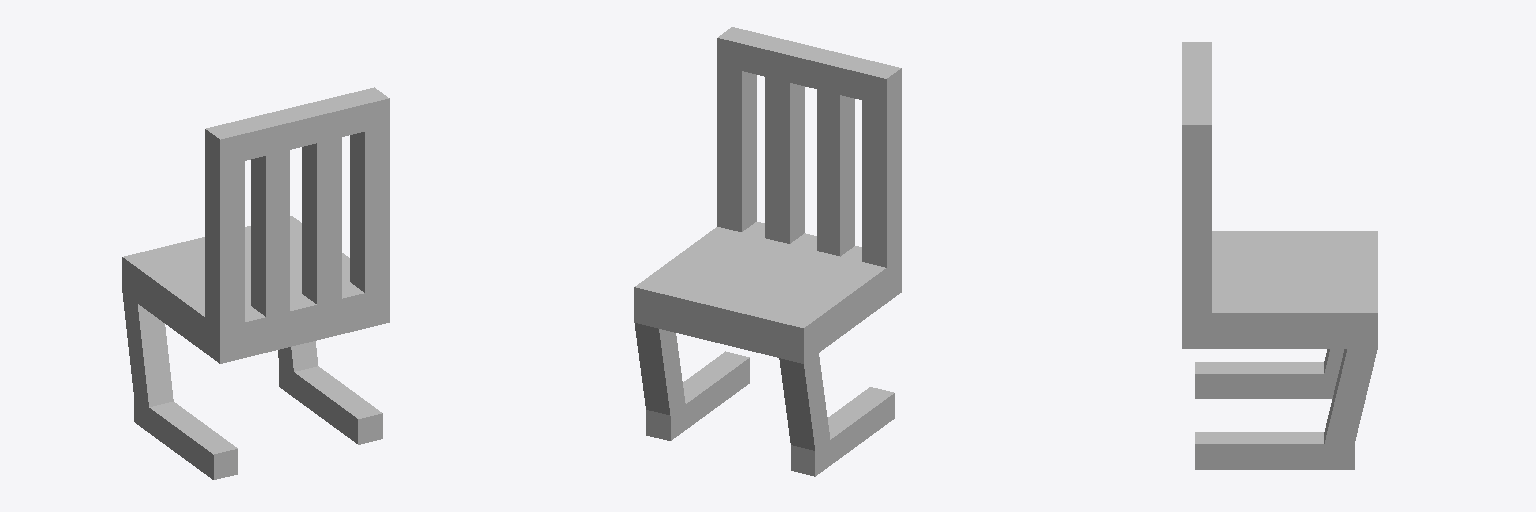
Rendered from chair.obj.
3 renders of one model, left to right at view 1: azimuth 30°, elevation 25°; view 2: azimuth 150°, elevation 25°; view 3: azimuth 270°, elevation 25°, orthographic.
Parts seen in each view (by area): view 1: chair; view 2: chair; view 3: chair.
Part boxes in pixels (bbox=[...]): chair: bbox=[122, 87, 389, 479]; chair: bbox=[634, 27, 901, 476]; chair: bbox=[1182, 42, 1377, 469].
Bounding box in the file's own units: 1.91 × 3.72 × 1.91.